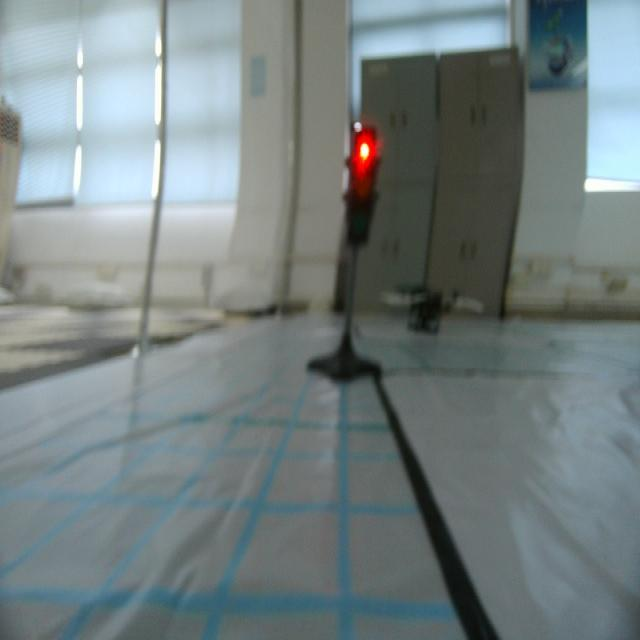red: (338, 119, 379, 255)
